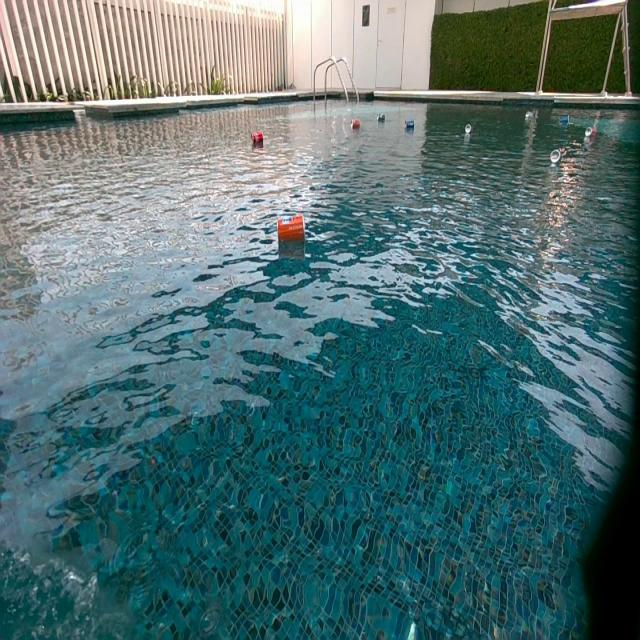Cans: (277, 217, 303, 246), (551, 147, 562, 163), (252, 133, 263, 147), (586, 128, 598, 140), (407, 118, 417, 130), (350, 118, 360, 130), (525, 110, 536, 119), (378, 112, 387, 122), (560, 114, 570, 123), (464, 124, 471, 134)
